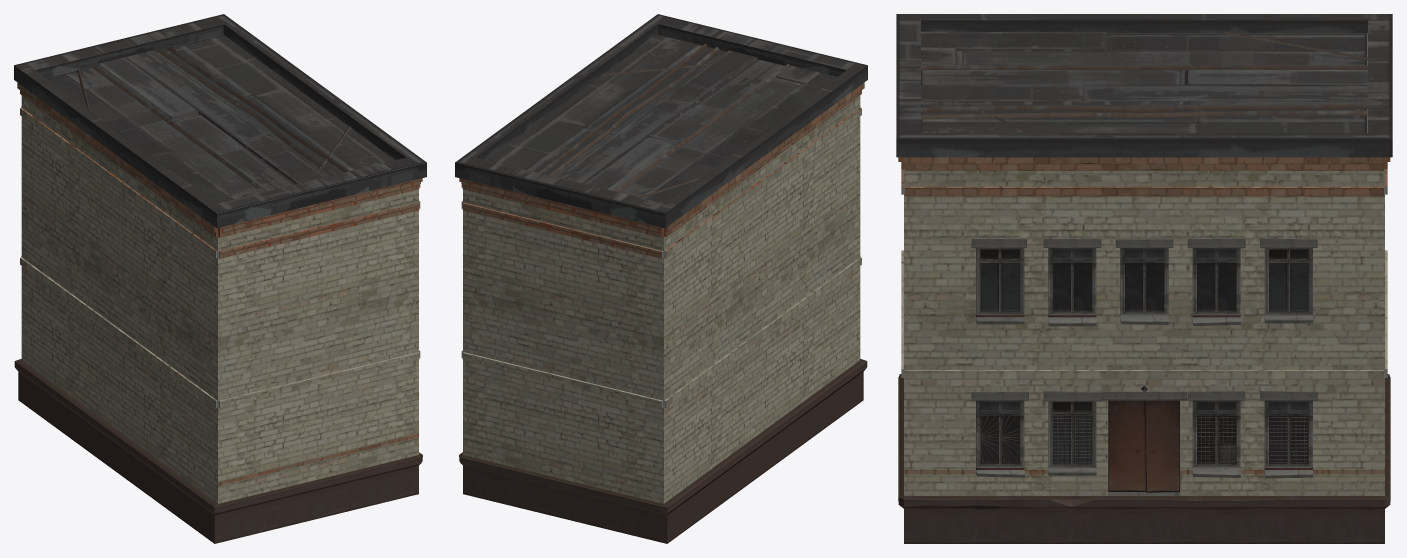
The model's file is bz_bgBuilding_B01.fbx.
The picture shows the model from 3 angles, left to right: view 1: azimuth 30°, elevation 25°; view 2: azimuth 150°, elevation 25°; view 3: azimuth 270°, elevation 25°; orthographic projection. The views are drawn at different scales.
Visible parts, largest first — view 1: bz_bgBuilding_B01_box, bz_bgBuilding_B01_roof, bz_bgBuilding_B01_fund, bz_bgBuilding_B01_wire; view 2: bz_bgBuilding_B01_box, bz_bgBuilding_B01_roof, bz_bgBuilding_B01_fund, bz_bgBuilding_B01_wire; view 3: bz_bgBuilding_B01_box, bz_bgBuilding_B01_roof, bz_bgBuilding_B01_fund, bz_bgBuilding_B01_wire.
Boxes of the visible parts, left/top/right/bottom form: bz_bgBuilding_B01_box: left=20, top=95, right=420, bottom=503; bz_bgBuilding_B01_roof: left=14, top=14, right=426, bottom=237; bz_bgBuilding_B01_fund: left=14, top=359, right=422, bottom=543; bz_bgBuilding_B01_wire: left=77, top=45, right=350, bottom=191; bz_bgBuilding_B01_box: left=461, top=95, right=861, bottom=503; bz_bgBuilding_B01_roof: left=455, top=14, right=867, bottom=237; bz_bgBuilding_B01_fund: left=459, top=359, right=867, bottom=543; bz_bgBuilding_B01_wire: left=538, top=43, right=789, bottom=197; bz_bgBuilding_B01_box: left=901, top=169, right=1387, bottom=495; bz_bgBuilding_B01_roof: left=896, top=14, right=1392, bottom=170; bz_bgBuilding_B01_fund: left=898, top=374, right=1390, bottom=543; bz_bgBuilding_B01_wire: left=921, top=31, right=1367, bottom=132.
Size of the model in its own units: 6.25 by 9.35 by 10.32.
